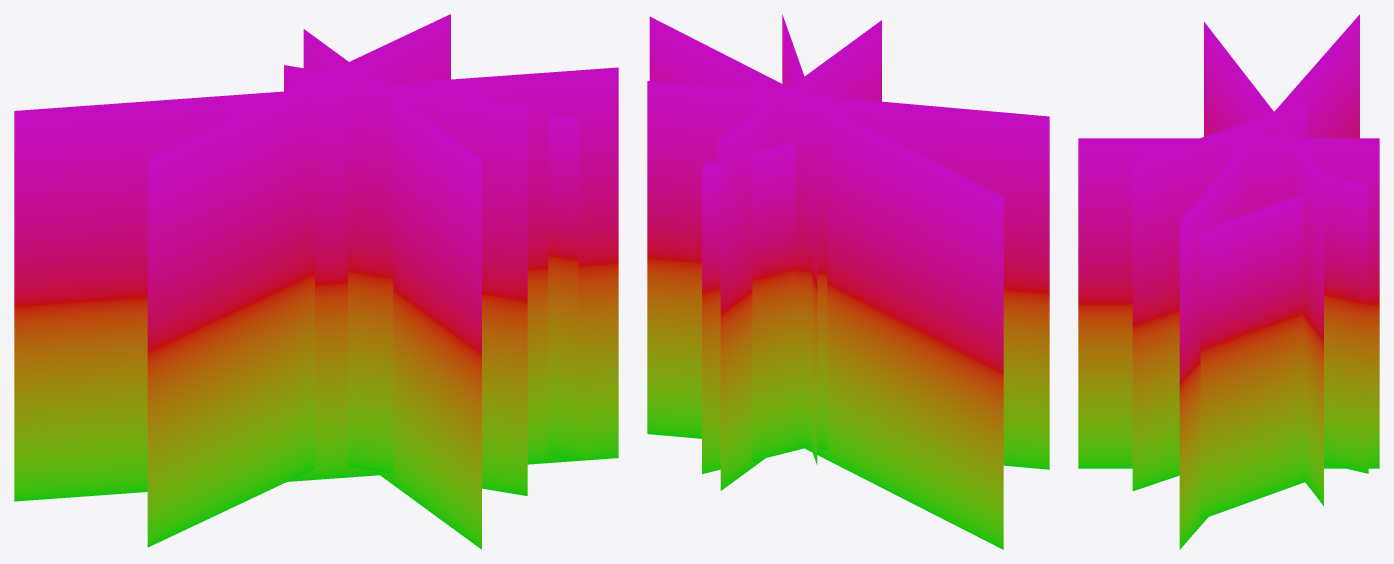
The model's file is Grass_04.fbx.
The picture shows the model from 3 angles, left to right: view 1: azimuth 30°, elevation 25°; view 2: azimuth 150°, elevation 25°; view 3: azimuth 270°, elevation 25°; orthographic projection. The views are drawn at different scales.
Visible parts, largest first — view 1: Grass_15; view 2: Grass_15; view 3: Grass_15.
Part boxes in pixels (x1,y1,x2,y2): Grass_15: (14,14,618,549); Grass_15: (647,14,1049,549); Grass_15: (1078,14,1379,549).
Bounding box in the file's own units: 1.28 × 0.9887 × 0.7949.
